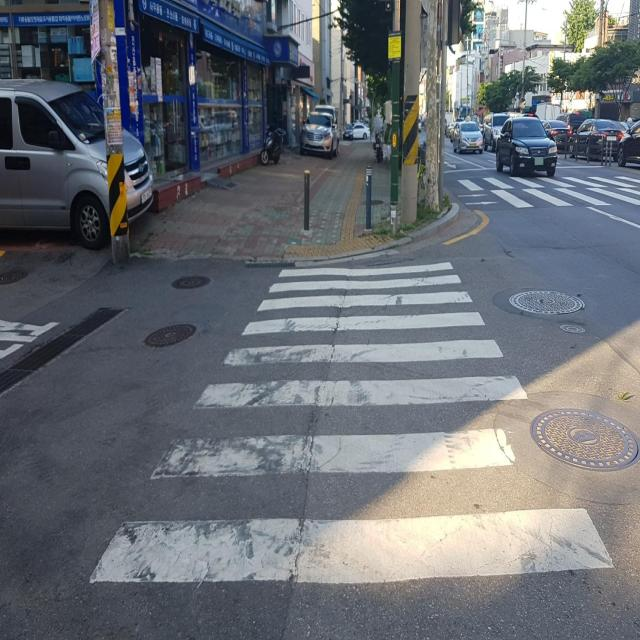횡단보도: (84, 255, 618, 597), (454, 171, 640, 211)
